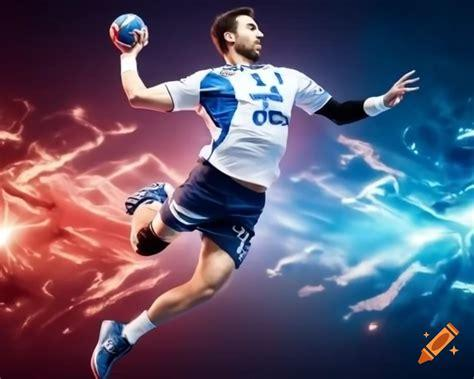ballon_handball: (108, 11, 149, 53)
